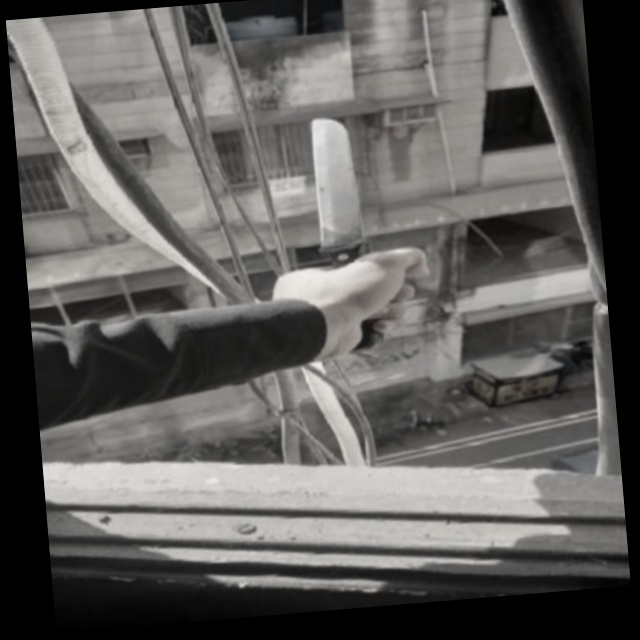Sharp-Object: (309, 112, 384, 354)
